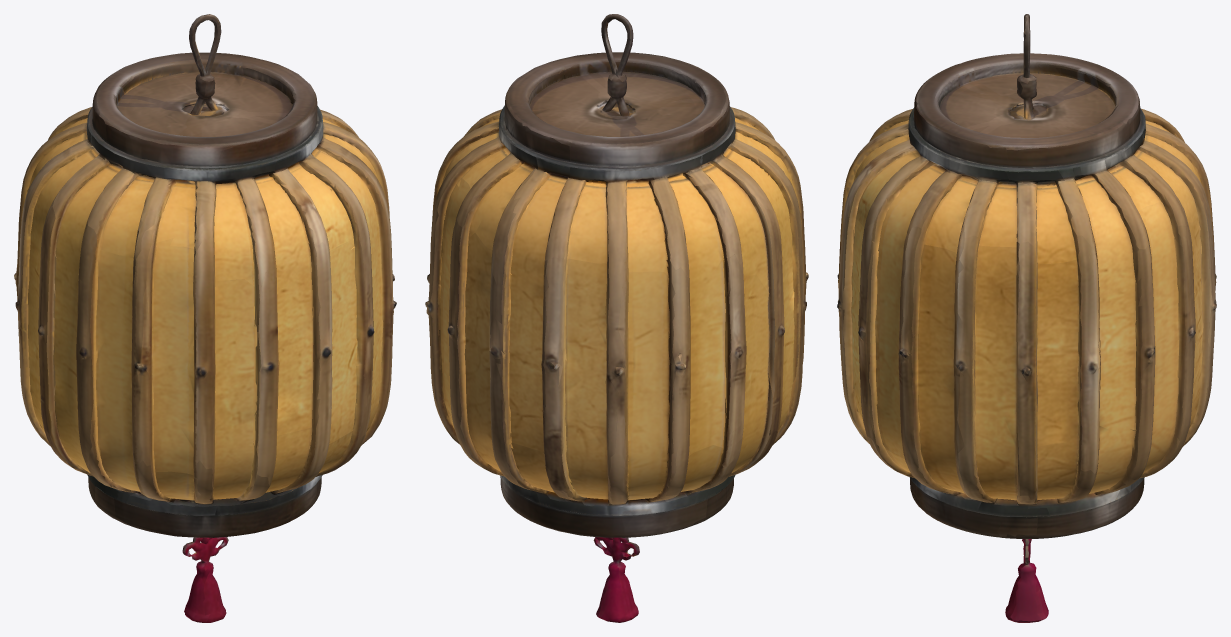
File: lantern.glb
3 views of the same model, side by side, from view 1: azimuth 30°, elevation 25°; view 2: azimuth 150°, elevation 25°; view 3: azimuth 270°, elevation 25° (orthographic).
Parts seen in each view (by area): view 1: geometry_0; view 2: geometry_0; view 3: geometry_0.
Boxes of the visible parts, x1,y1,x2,y2 form: geometry_0: (14,14,396,622); geometry_0: (425,14,808,622); geometry_0: (837,14,1216,622).
Bounding box in the file's own units: 0.2627 × 0.45 × 0.2584.
Materials: 1 (1 with a texture image).
